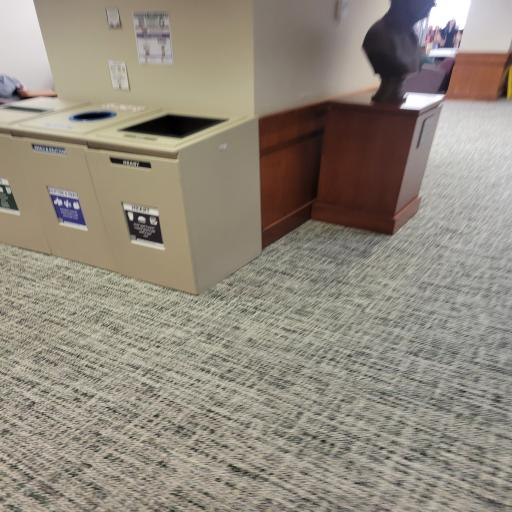can and bottle trash cans: (27, 101, 111, 277)
paper trash can: (0, 96, 23, 268)
statue: (304, 0, 458, 235)
trash can: (116, 97, 258, 288)
